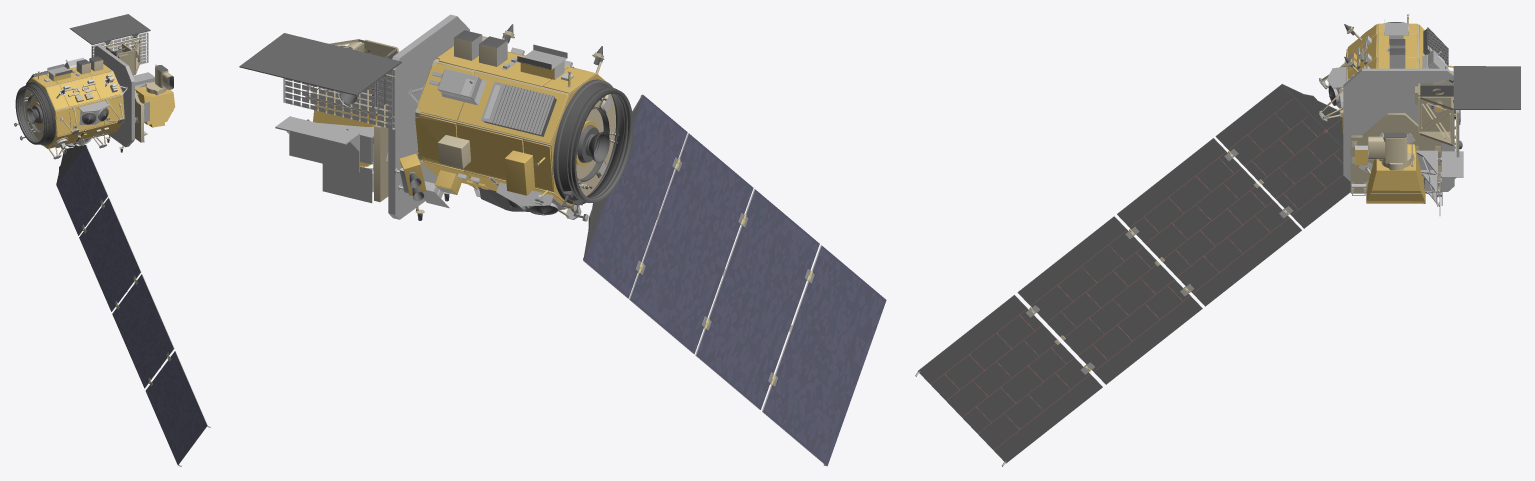
The model's file is satellite.dae.
The picture shows the model from 3 angles, left to right: view 1: azimuth 30°, elevation 25°; view 2: azimuth 150°, elevation 25°; view 3: azimuth 270°, elevation 25°; orthographic projection. The views are drawn at different scales.
Parts seen in each view (by area): view 1: Layer_0_018, Layer_0_010, Layer_0_012, Layer_0_029, Layer_0_024, Layer_0_030, Layer_0_026, Layer_0_002, Layer_0_027, Layer_0_028, Layer_0_025, Layer_0_004 (+13 smaller); view 2: Layer_0_018, Layer_0_010, Layer_0_012, Layer_0_029, Layer_0_024, Layer_0_030, Layer_0_026, Layer_0_002, Layer_0_022, Layer_0_027, Layer_0_028, Layer_0_025 (+13 smaller); view 3: Layer_0_017, Layer_0_010, Layer_0_019, Layer_0_002, Layer_0_008, Layer_0_004, Layer_0_006, Layer_0_012, Layer_0_005, Layer_0_015, Layer_0_001, Layer_0_022.
Part boxes in pixels (x1=…): Layer_0_018: x1=56, y1=145, x2=207, y2=464; Layer_0_010: x1=38, y1=32, x2=210, y2=466; Layer_0_012: x1=33, y1=64, x2=124, y2=148; Layer_0_029: x1=57, y1=153, x2=202, y2=451; Layer_0_024: x1=59, y1=151, x2=203, y2=461; Layer_0_030: x1=61, y1=151, x2=202, y2=457; Layer_0_026: x1=58, y1=147, x2=204, y2=458; Layer_0_002: x1=22, y1=14, x2=173, y2=152; Layer_0_027: x1=60, y1=147, x2=204, y2=453; Layer_0_028: x1=66, y1=153, x2=205, y2=463; Layer_0_025: x1=57, y1=158, x2=206, y2=454; Layer_0_004: x1=15, y1=35, x2=173, y2=367; Layer_0_018: x1=584, y1=95, x2=886, y2=465; Layer_0_010: x1=275, y1=14, x2=826, y2=466; Layer_0_012: x1=415, y1=46, x2=594, y2=209; Layer_0_029: x1=587, y1=109, x2=876, y2=449; Layer_0_024: x1=590, y1=106, x2=879, y2=460; Layer_0_030: x1=595, y1=114, x2=876, y2=450; Layer_0_026: x1=589, y1=99, x2=882, y2=453; Layer_0_002: x1=239, y1=33, x2=619, y2=220; Layer_0_022: x1=289, y1=44, x2=567, y2=207; Layer_0_027: x1=593, y1=98, x2=881, y2=450; Layer_0_028: x1=604, y1=120, x2=882, y2=463; Layer_0_025: x1=587, y1=113, x2=885, y2=450; Layer_0_017: x1=918, y1=84, x2=1350, y2=463; Layer_0_010: x1=915, y1=14, x2=1463, y2=466; Layer_0_019: x1=931, y1=99, x2=1343, y2=450; Layer_0_002: x1=1350, y1=30, x2=1520, y2=149; Layer_0_008: x1=1355, y1=106, x2=1441, y2=203; Layer_0_004: x1=1054, y1=26, x2=1456, y2=344; Layer_0_006: x1=1350, y1=100, x2=1444, y2=193; Layer_0_012: x1=1342, y1=23, x2=1424, y2=128; Layer_0_005: x1=1415, y1=79, x2=1455, y2=146; Layer_0_015: x1=1329, y1=19, x2=1447, y2=195; Layer_0_001: x1=1384, y1=27, x2=1448, y2=137; Layer_0_022: x1=1344, y1=23, x2=1448, y2=68.
Bounding box in the file's own units: 249 × 615 × 503.
